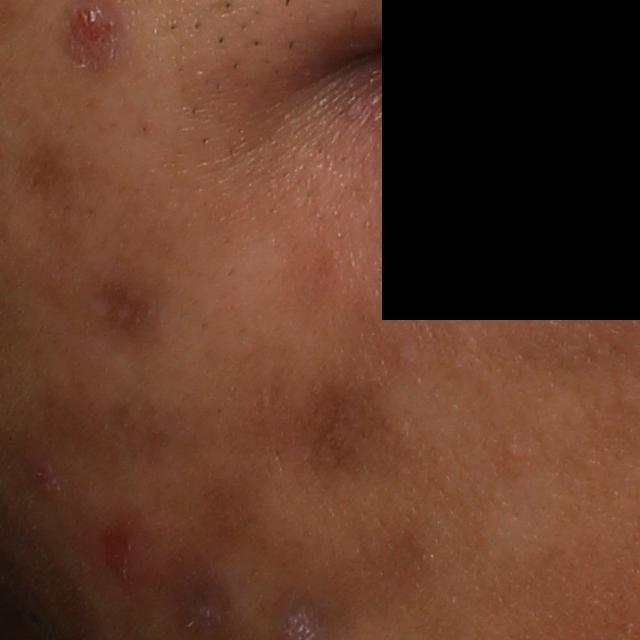papule: (93, 521, 143, 592), (67, 1, 114, 57)
